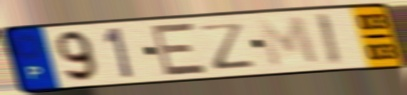1: (101, 26, 136, 81)
9: (51, 28, 101, 84)
E: (150, 21, 210, 79)
I: (313, 11, 345, 68)
M: (254, 14, 323, 70)
Z: (197, 20, 258, 71)
